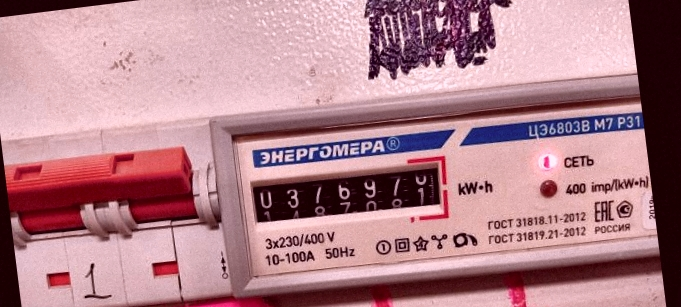0: (256, 185, 273, 209)
1: (414, 184, 428, 205)
3: (284, 186, 301, 208)
6: (335, 175, 352, 200)
7: (309, 179, 327, 205), (387, 172, 404, 196)
9: (361, 174, 377, 198)
screen: (240, 143, 457, 244)
